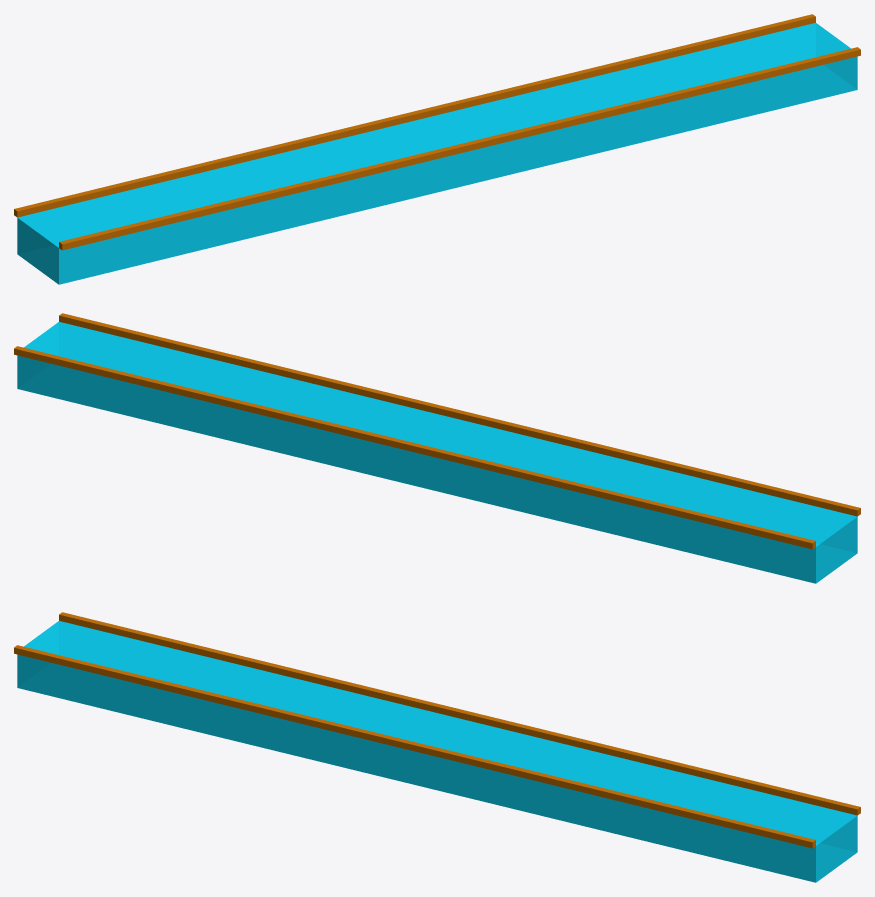
The model's file is Track.fbx.
The picture shows the model from 3 angles, top to bottom: view 1: azimuth 30°, elevation 25°; view 2: azimuth 150°, elevation 25°; view 3: azimuth 330°, elevation 25°; orthographic projection.
Parts seen in each view (by area): view 1: Track, border4, border2; view 2: Track, border4, border2; view 3: Track, border4, border2.
Boxes of the visible parts, x1,y1,x2,y2 form: Track: (17, 23, 857, 284); border4: (59, 47, 860, 250); border2: (14, 14, 815, 217); Track: (17, 322, 857, 583); border4: (59, 313, 860, 516); border2: (14, 346, 815, 549); Track: (17, 621, 857, 882); border4: (14, 645, 815, 848); border2: (59, 612, 860, 815).
Bounding box in the file's own units: 2732 × 140 × 287.
